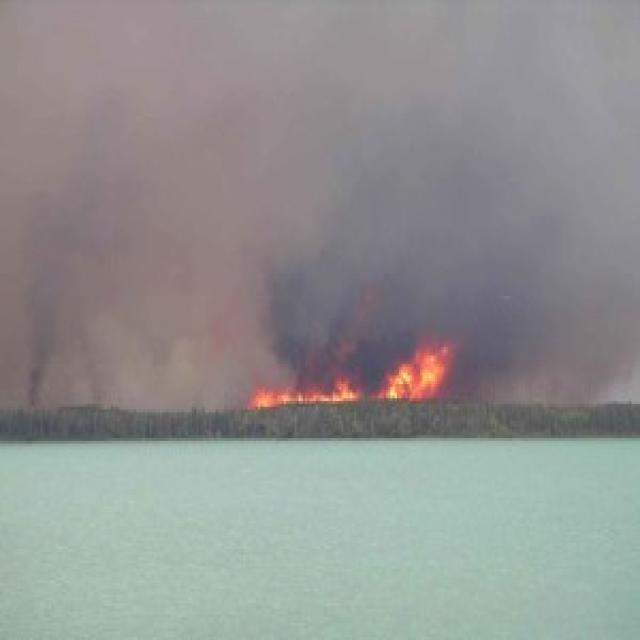Fire: (254, 373, 365, 414), (372, 347, 446, 403)
Smoke: (222, 82, 632, 325)
